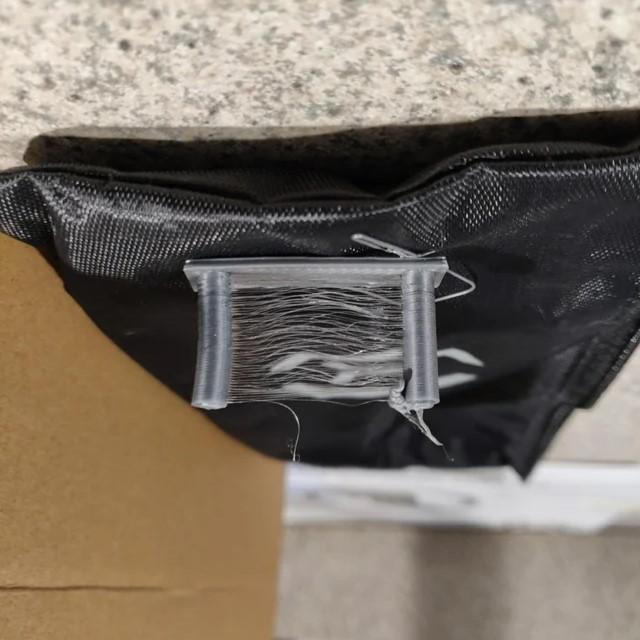Stringing: (216, 280, 416, 407)
